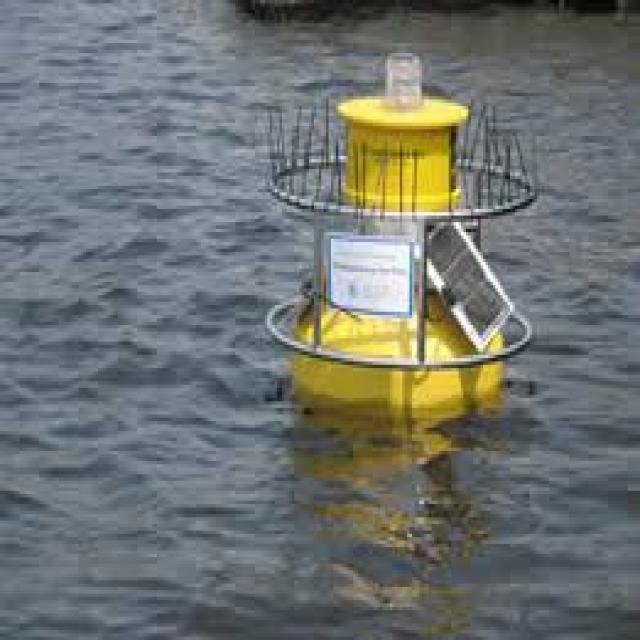buoy: (234, 13, 561, 437)
